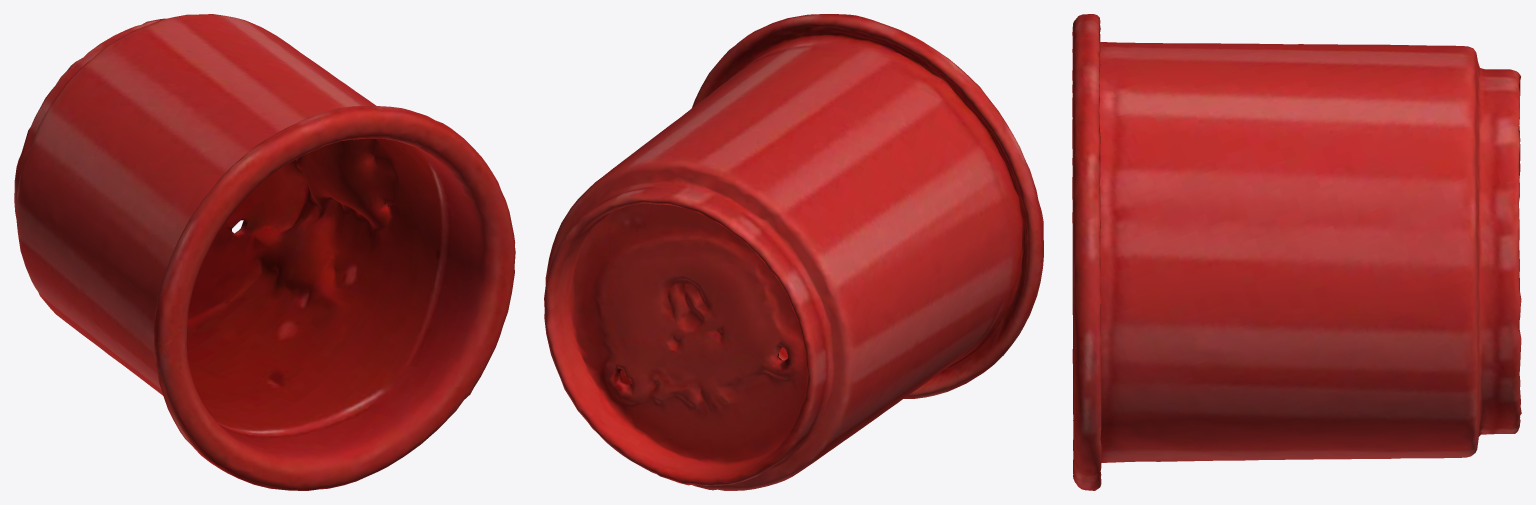
File: ddg-ycb_065-e_cups.glb
3 views of the same model, side by side, from view 1: azimuth 30°, elevation 25°; view 2: azimuth 150°, elevation 25°; view 3: azimuth 270°, elevation 25° (orthographic). The views are drawn at different scales.
Parts seen in each view (by area): view 1: textured(Clone); view 2: textured(Clone); view 3: textured(Clone).
Part boxes in pixels (<box>): textured(Clone): <box>14,14,515,490</box>; textured(Clone): <box>544,14,1043,490</box>; textured(Clone): <box>1072,14,1521,490</box>.
Size of the model in its own units: 1.47 by 1.46 by 1.38.
1 material, 1 textured.
